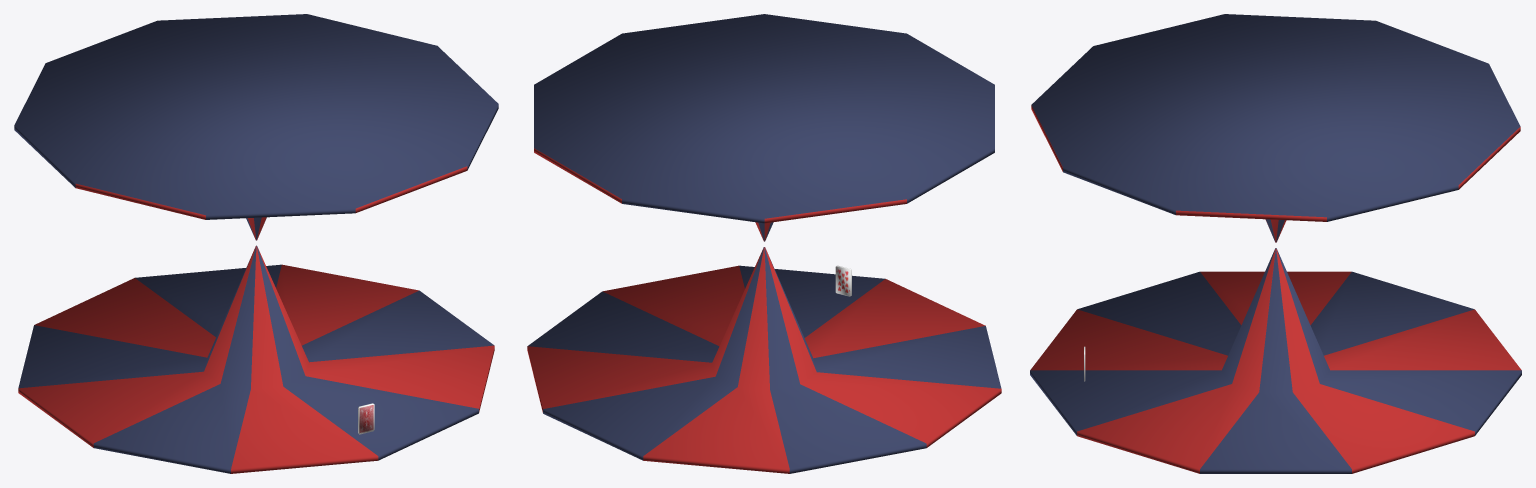
The model's file is carousel.glb.
3 views of the same model, side by side, from view 1: azimuth 30°, elevation 25°; view 2: azimuth 150°, elevation 25°; view 3: azimuth 270°, elevation 25° (orthographic).
Parts seen in each view (by area): view 1: carousel; view 2: carousel; view 3: carousel.
Boxes of the visible parts, box(x1,y1,x2,y2) form: carousel: box(14, 14, 498, 473); carousel: box(527, 14, 1001, 473); carousel: box(1030, 14, 1521, 473).
Size of what is drawn, in the model's own units: 31.43 by 18.7 by 32.13.
Materials: 3 (1 with a texture image).
